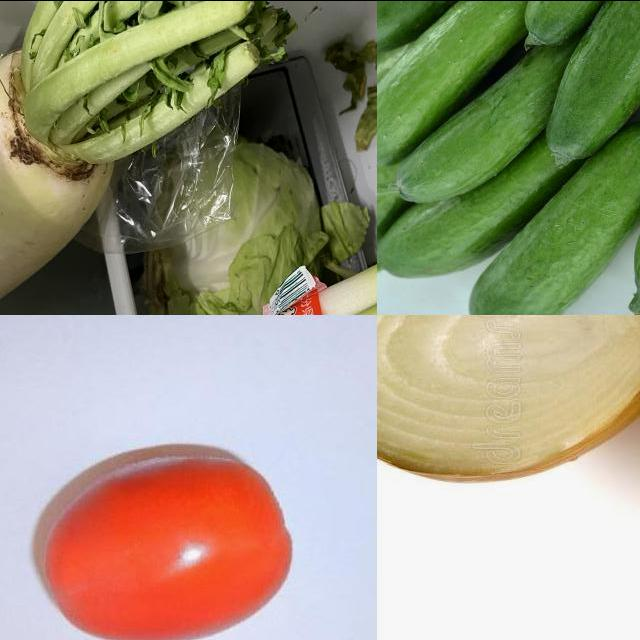cabbage: (136, 133, 359, 315)
cucumber: (464, 123, 640, 315), (378, 1, 553, 168), (379, 134, 578, 279), (545, 1, 640, 169), (378, 1, 604, 54)
onion: (1, 77, 378, 315), (378, 315, 640, 492)
tomato: (23, 421, 313, 640)
